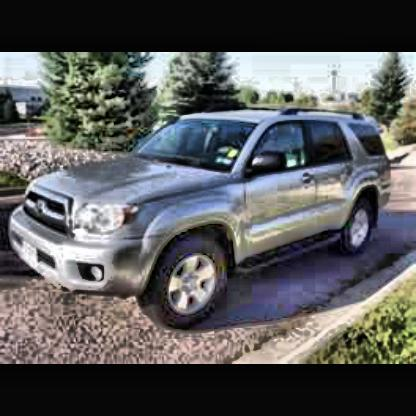Toyota 4Runner SUV 2012: (7, 106, 396, 328)
